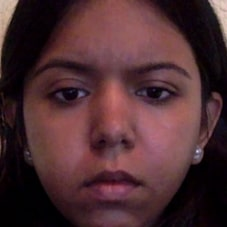awake: (31, 46, 194, 209)
